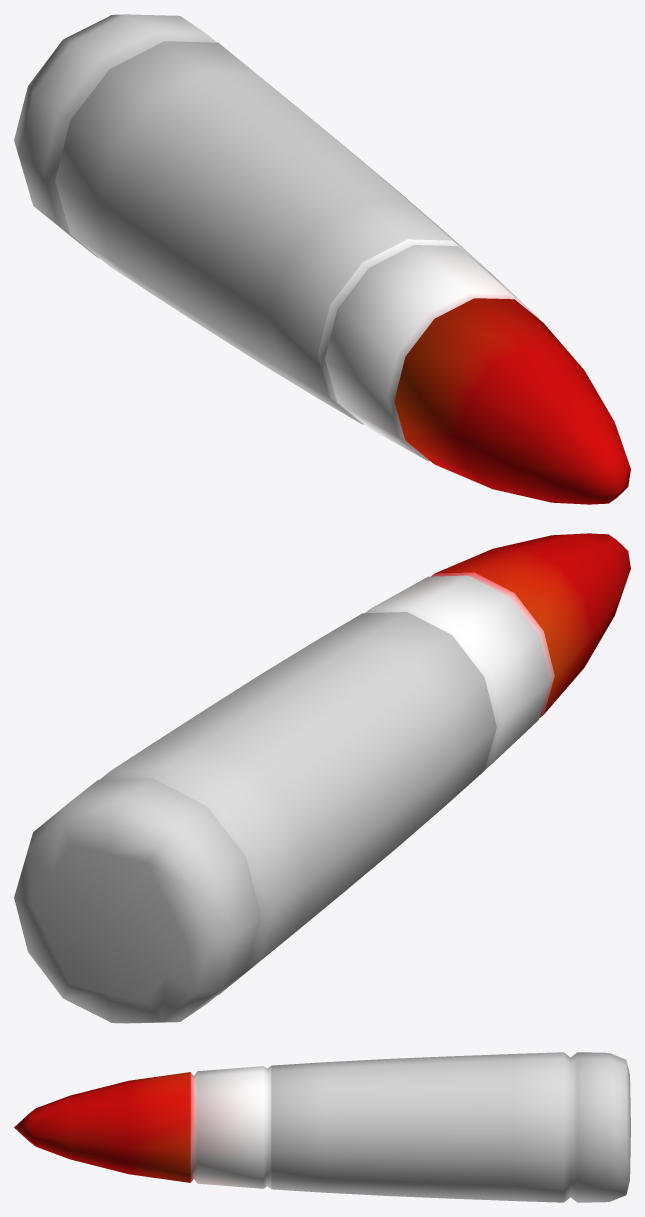
The model's file is penetratingbullet.fbx.
3 renders of one model, top to bottom at view 1: azimuth 30°, elevation 25°; view 2: azimuth 150°, elevation 25°; view 3: azimuth 270°, elevation 25°, orthographic. The views are drawn at different scales.
Parts seen in each view (by area): view 1: penetratingbullet; view 2: penetratingbullet; view 3: penetratingbullet.
Boxes of the visible parts, x1=… form: penetratingbullet: x1=14, y1=14, x2=630, y2=504; penetratingbullet: x1=14, y1=533, x2=630, y2=1023; penetratingbullet: x1=14, y1=1052, x2=630, y2=1202.
Size of the model in its own units: 17.15 by 17.08 by 69.97.
